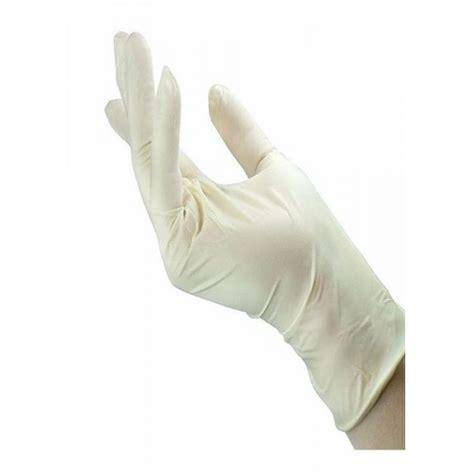gloves: (103, 28, 405, 432)
